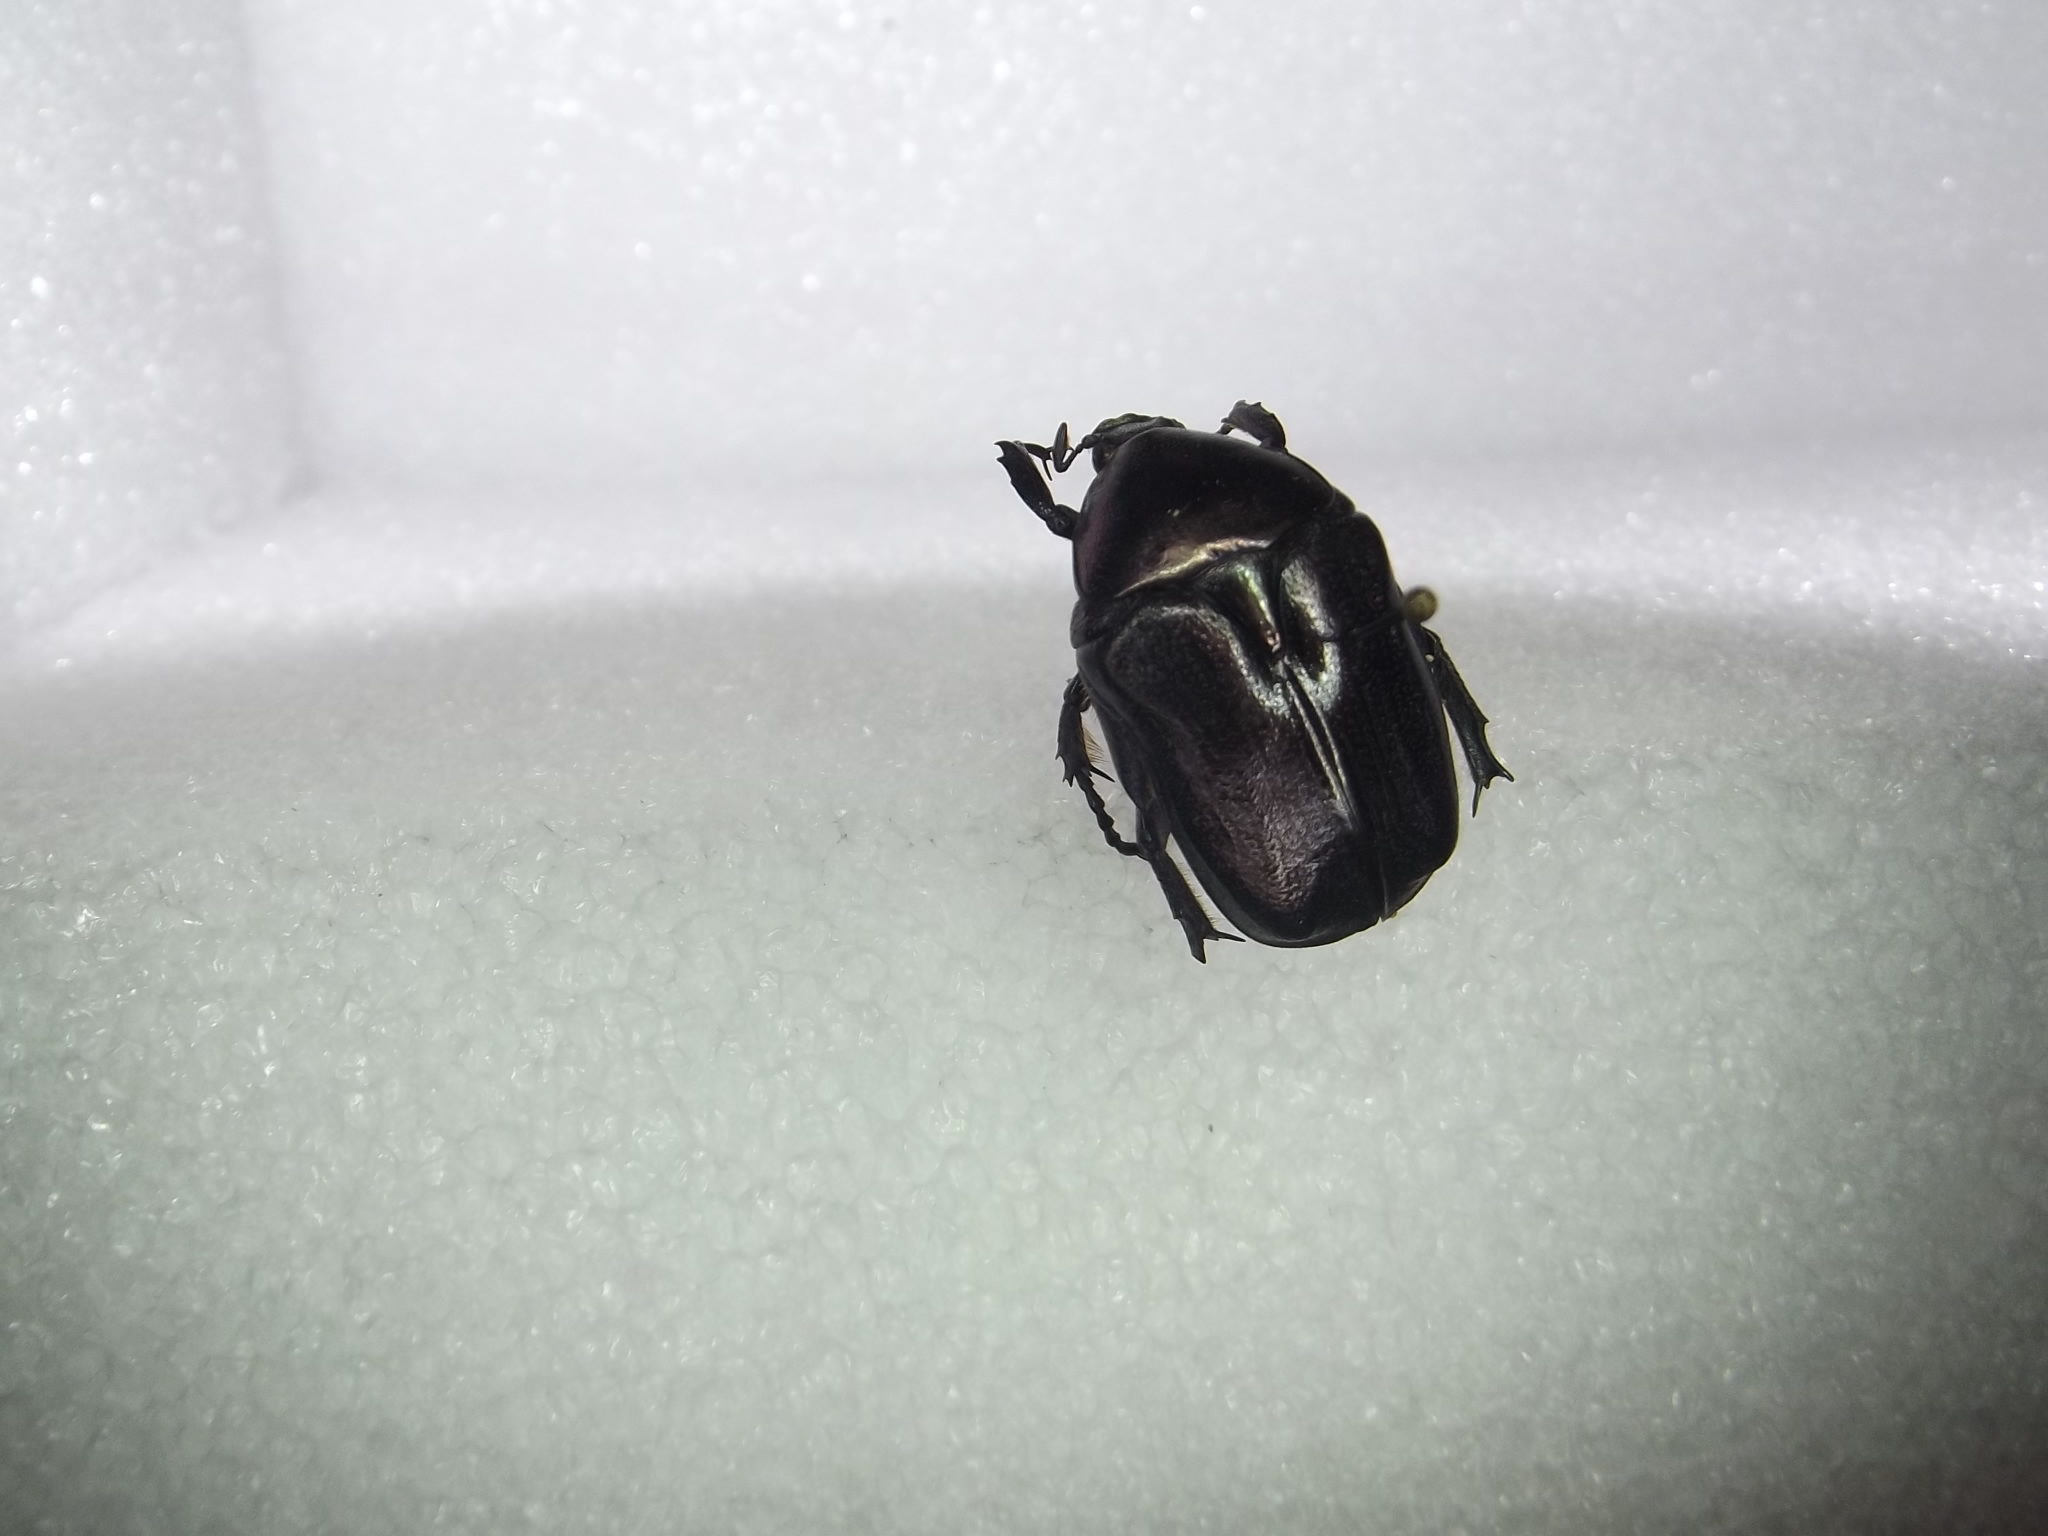Protaetia_besucheti: (989, 369, 1563, 970)
